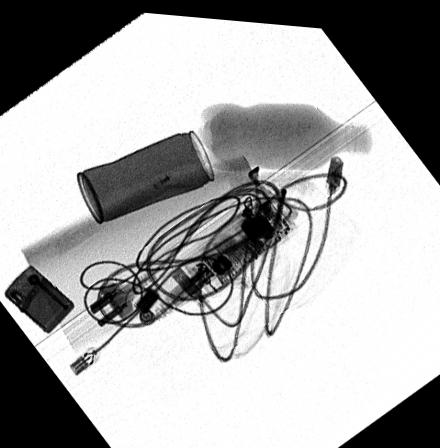Lighter: (2, 262, 74, 333)
